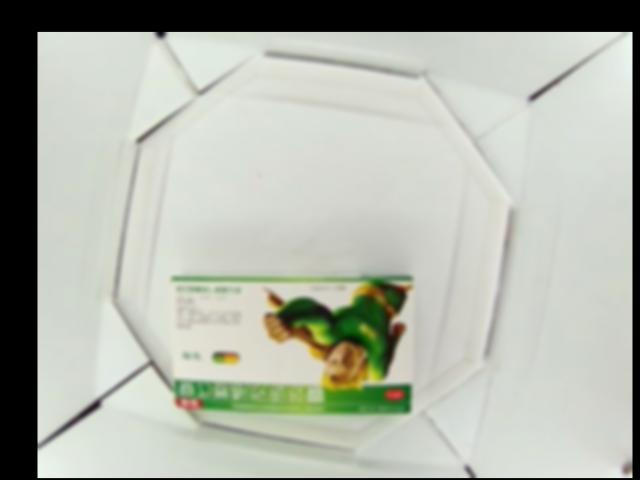Medicine: (173, 274, 414, 413)
